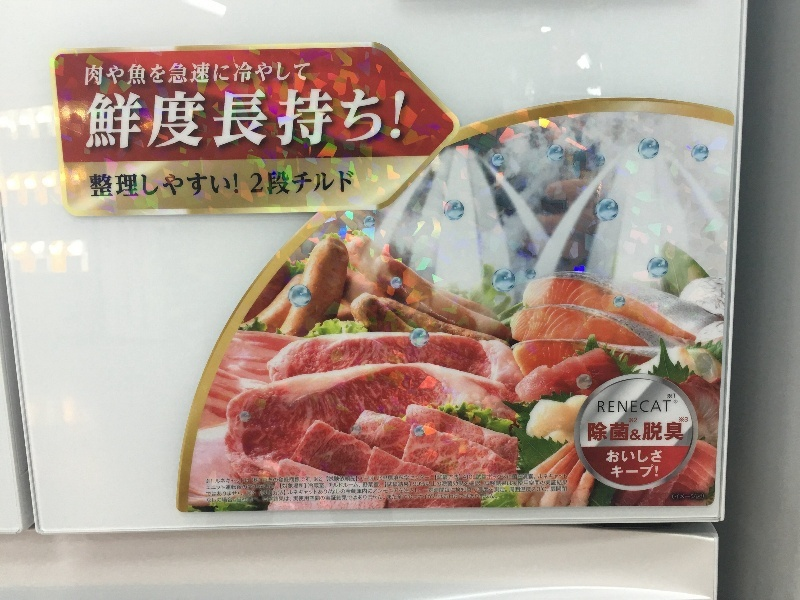text: (97, 88, 112, 153), (113, 88, 128, 153), (129, 88, 144, 153), (145, 88, 160, 153), (161, 88, 176, 153), (177, 88, 192, 153), (193, 88, 208, 153), (209, 88, 224, 153), (225, 88, 240, 153), (241, 88, 256, 153), (257, 88, 272, 153), (273, 88, 288, 153), (289, 88, 304, 153), (305, 88, 320, 153), (321, 88, 336, 153), (337, 88, 352, 153), (353, 88, 368, 153), (369, 88, 384, 153), (385, 88, 400, 153), (89, 88, 96, 153), (97, 171, 112, 198), (113, 171, 128, 198), (129, 171, 144, 198), (145, 171, 160, 198), (161, 171, 176, 198), (177, 171, 192, 198), (193, 171, 208, 198), (209, 171, 224, 198), (225, 171, 240, 198), (241, 171, 256, 198), (257, 171, 272, 198), (273, 171, 288, 198), (289, 171, 304, 198), (305, 171, 320, 198), (321, 171, 336, 198), (337, 171, 352, 198), (401, 88, 407, 153), (97, 62, 112, 86), (113, 62, 128, 86), (129, 62, 144, 86), (145, 62, 160, 86), (161, 62, 176, 86), (177, 62, 192, 86), (193, 62, 208, 86), (209, 62, 224, 86), (225, 62, 240, 86), (241, 62, 256, 86), (257, 62, 272, 86), (273, 62, 288, 86), (289, 62, 304, 86), (593, 421, 608, 442), (609, 421, 624, 442), (625, 421, 640, 442), (641, 421, 656, 442), (657, 421, 672, 442), (673, 421, 685, 442), (86, 62, 96, 86), (609, 450, 624, 464), (625, 450, 640, 464), (641, 450, 656, 464), (625, 465, 640, 478), (641, 465, 656, 478), (89, 171, 96, 198), (610, 465, 624, 478), (609, 401, 624, 413), (625, 401, 640, 413), (641, 401, 656, 413), (657, 401, 672, 413), (209, 474, 224, 485), (225, 474, 240, 485), (241, 474, 256, 485), (257, 474, 272, 485), (273, 474, 288, 485), (289, 474, 304, 485), (305, 474, 320, 485), (321, 474, 336, 485), (337, 474, 352, 485), (353, 474, 368, 485), (369, 474, 384, 485), (385, 474, 400, 485), (401, 474, 416, 485), (417, 474, 432, 485), (433, 474, 448, 485), (449, 474, 464, 485), (465, 474, 480, 485), (481, 474, 496, 485), (497, 474, 512, 485), (513, 474, 528, 485), (529, 474, 544, 485), (545, 474, 560, 485), (209, 486, 224, 497), (225, 486, 240, 497), (241, 486, 256, 497), (257, 486, 272, 497), (273, 486, 288, 497), (289, 486, 304, 497), (305, 486, 320, 497), (321, 486, 336, 497), (337, 486, 352, 497), (353, 486, 368, 497), (369, 486, 384, 497), (385, 486, 400, 497), (401, 486, 416, 497), (417, 486, 432, 497), (433, 486, 448, 497), (449, 486, 464, 497), (465, 486, 480, 497), (481, 486, 496, 497), (497, 486, 512, 497), (513, 486, 528, 497), (529, 486, 544, 497), (545, 486, 560, 497), (209, 480, 224, 490), (225, 480, 240, 490), (241, 480, 256, 490), (257, 480, 272, 490), (273, 480, 288, 490), (289, 480, 304, 490), (305, 480, 320, 490), (321, 480, 336, 490), (337, 480, 352, 490), (353, 480, 368, 490), (369, 480, 384, 490), (385, 480, 400, 490), (401, 480, 416, 490), (417, 480, 432, 490), (433, 480, 448, 490), (449, 480, 464, 490), (465, 480, 480, 490), (481, 480, 496, 490), (497, 480, 512, 490), (513, 480, 528, 490), (529, 480, 544, 490), (545, 480, 560, 490), (209, 493, 224, 503), (225, 493, 240, 503), (241, 493, 256, 503), (257, 493, 272, 503), (273, 493, 288, 503), (289, 493, 304, 503), (305, 493, 320, 503), (321, 493, 336, 503), (337, 493, 352, 503), (353, 493, 368, 503), (369, 493, 384, 503), (385, 493, 400, 503), (401, 493, 416, 503), (417, 493, 432, 503), (433, 493, 448, 503), (449, 493, 464, 503), (465, 493, 480, 503), (481, 493, 496, 503), (305, 62, 311, 86), (598, 401, 608, 413), (673, 493, 688, 500), (689, 493, 704, 500), (561, 474, 568, 485), (673, 394, 688, 399), (657, 450, 662, 464), (561, 486, 567, 497), (589, 421, 592, 442), (561, 480, 567, 490), (675, 401, 688, 404), (634, 418, 640, 424), (205, 474, 208, 485), (353, 171, 354, 198), (657, 465, 659, 478), (206, 486, 208, 497), (206, 480, 208, 490), (685, 417, 688, 422), (607, 450, 608, 464), (207, 493, 208, 503), (497, 493, 498, 503)
